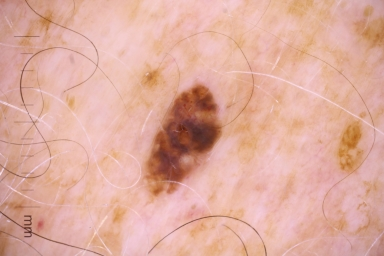melanoma: (142, 83, 222, 195)
